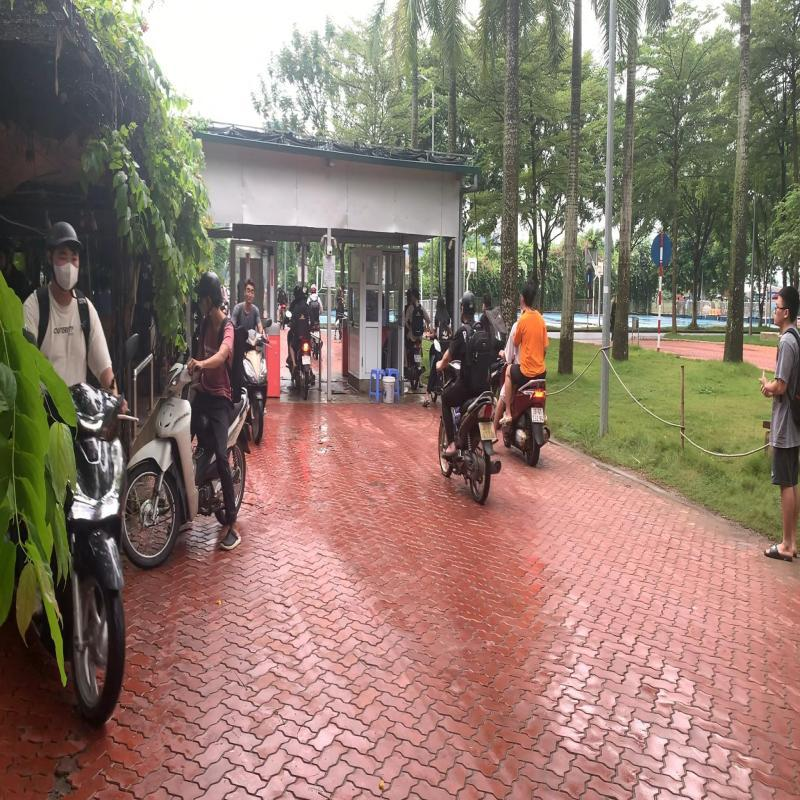nohelmet: (519, 278, 539, 310), (436, 295, 446, 312)
